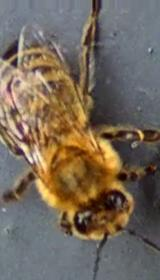varroa_mite: (11, 116, 40, 148)
